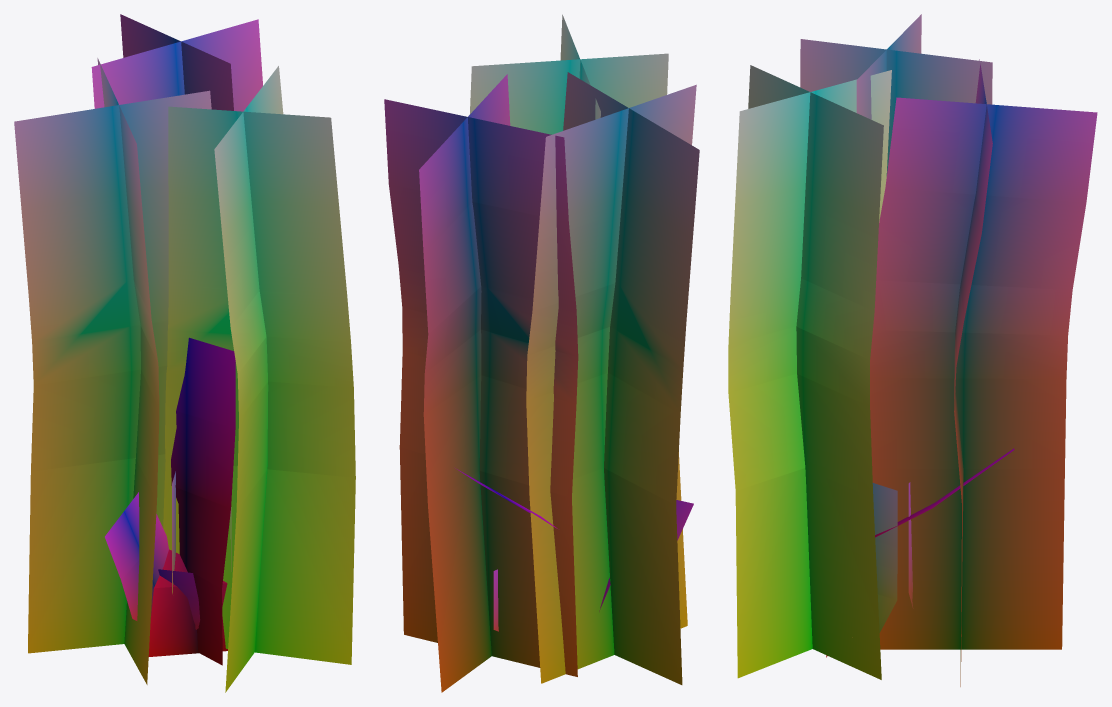
File: fine_filbert_02_1.fbx
3 renders of one model, left to right at view 1: azimuth 30°, elevation 25°; view 2: azimuth 150°, elevation 25°; view 3: azimuth 270°, elevation 25°, orthographic.
Visible parts, largest first — view 1: fine_filbert_02_1_lod_0; view 2: fine_filbert_02_1_lod_0; view 3: fine_filbert_02_1_lod_0.
Part boxes in pixels (x1,y1,x2,y2): fine_filbert_02_1_lod_0: (14,14,355,692); fine_filbert_02_1_lod_0: (384,14,699,692); fine_filbert_02_1_lod_0: (728,14,1097,686).
Size of what is drawn, in the model's own units: 0.5379 by 0.606 by 1.03.
